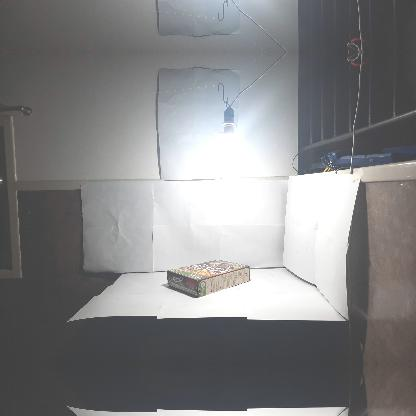Koko-Krunch: (166, 260, 250, 296)
